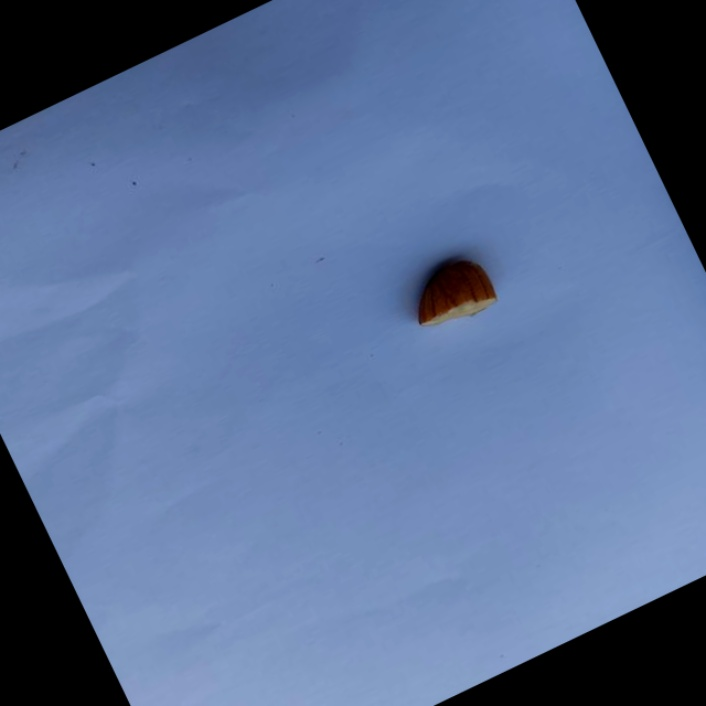grade4: (390, 241, 510, 346)
